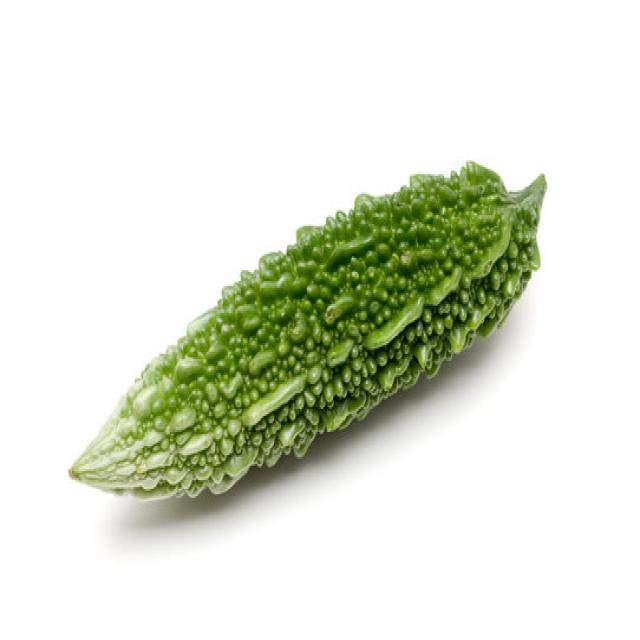Bitter_Gourd: (67, 158, 547, 503)
